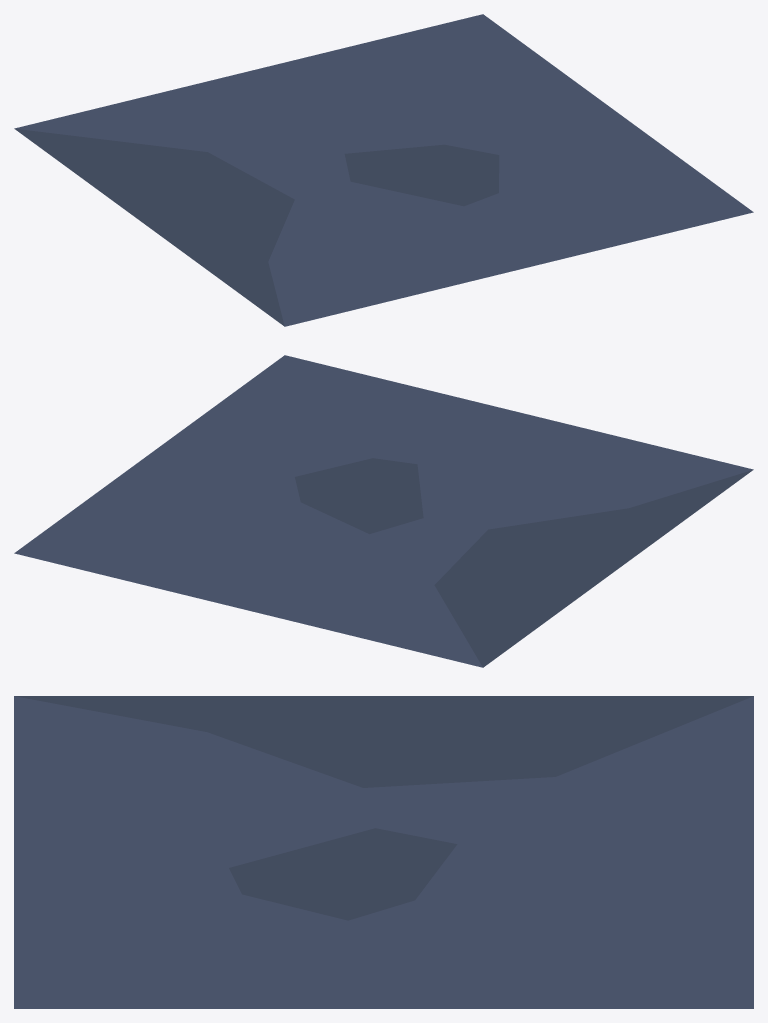
The model's file is AI_Env_Floor_04_Stained_01.fbx.
The picture shows the model from 3 angles, top to bottom: view 1: azimuth 30°, elevation 25°; view 2: azimuth 150°, elevation 25°; view 3: azimuth 270°, elevation 25°; orthographic projection. The views are drawn at different scales.
Parts seen in each view (by area): view 1: AI_Env_Floor_04_Stained_01; view 2: AI_Env_Floor_04_Stained_01; view 3: AI_Env_Floor_04_Stained_01.
Part boxes in pixels (box(x1,y1,x2,y2)): AI_Env_Floor_04_Stained_01: box(14, 14, 753, 326); AI_Env_Floor_04_Stained_01: box(14, 355, 753, 667); AI_Env_Floor_04_Stained_01: box(14, 696, 753, 1008).
Size of the model in its own units: 5 by 0 by 5.
